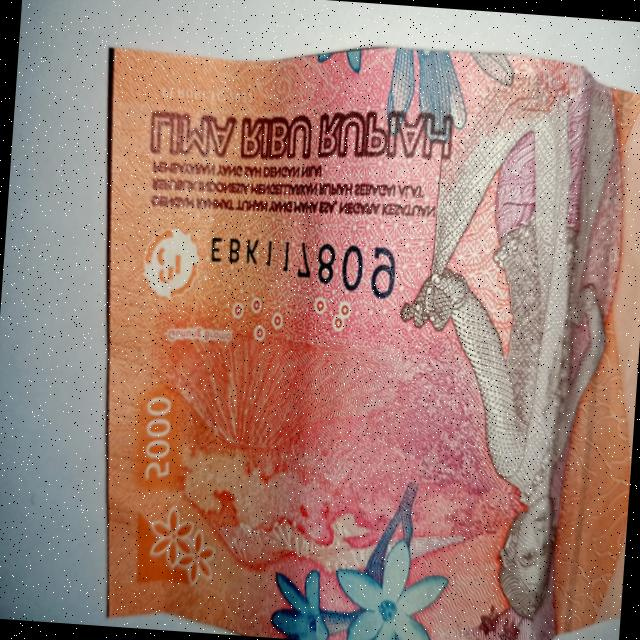5K: (67, 14, 640, 640)
